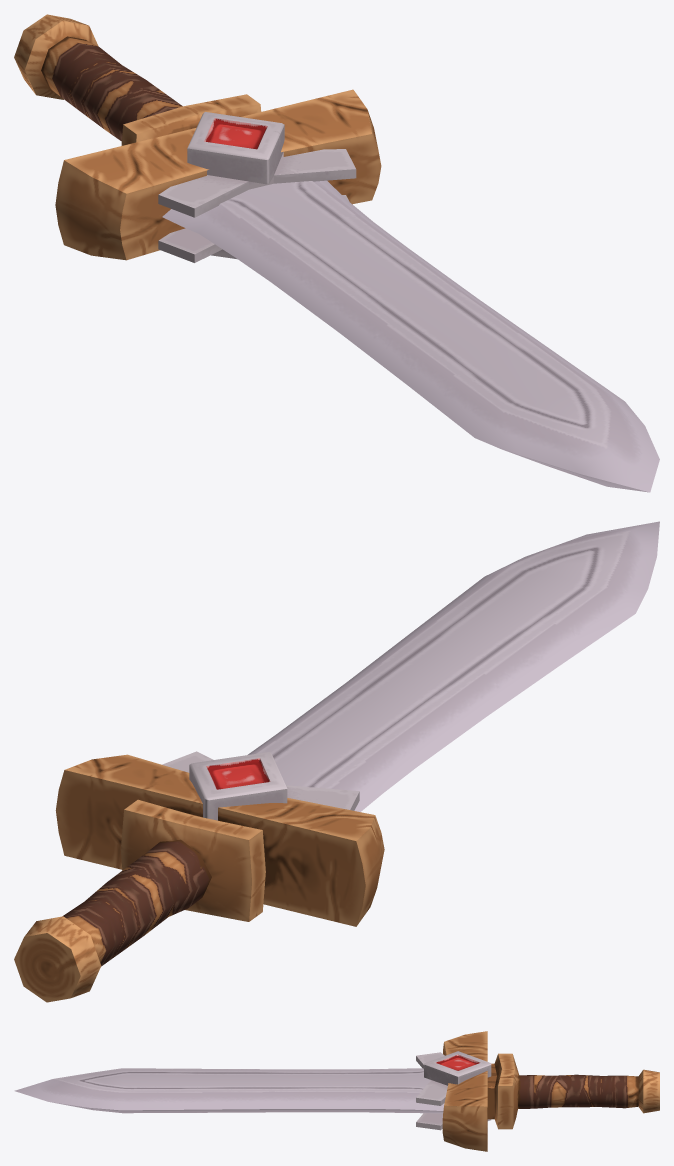
Rendered from sword_low.fbx.
3 views of the same model, one above another, from view 1: azimuth 30°, elevation 25°; view 2: azimuth 150°, elevation 25°; view 3: azimuth 270°, elevation 25° (orthographic). The views are drawn at different scales.
Parts seen in each view (by area): view 1: pasted__Sword; view 2: pasted__Sword; view 3: pasted__Sword.
Boxes of the visible parts, x1=… form: pasted__Sword: x1=14, y1=14, x2=659, y2=492; pasted__Sword: x1=14, y1=521, x2=659, y2=1002; pasted__Sword: x1=14, y1=1031, x2=659, y2=1151.
Bounding box in the file's own units: 133 × 44.07 × 454.
